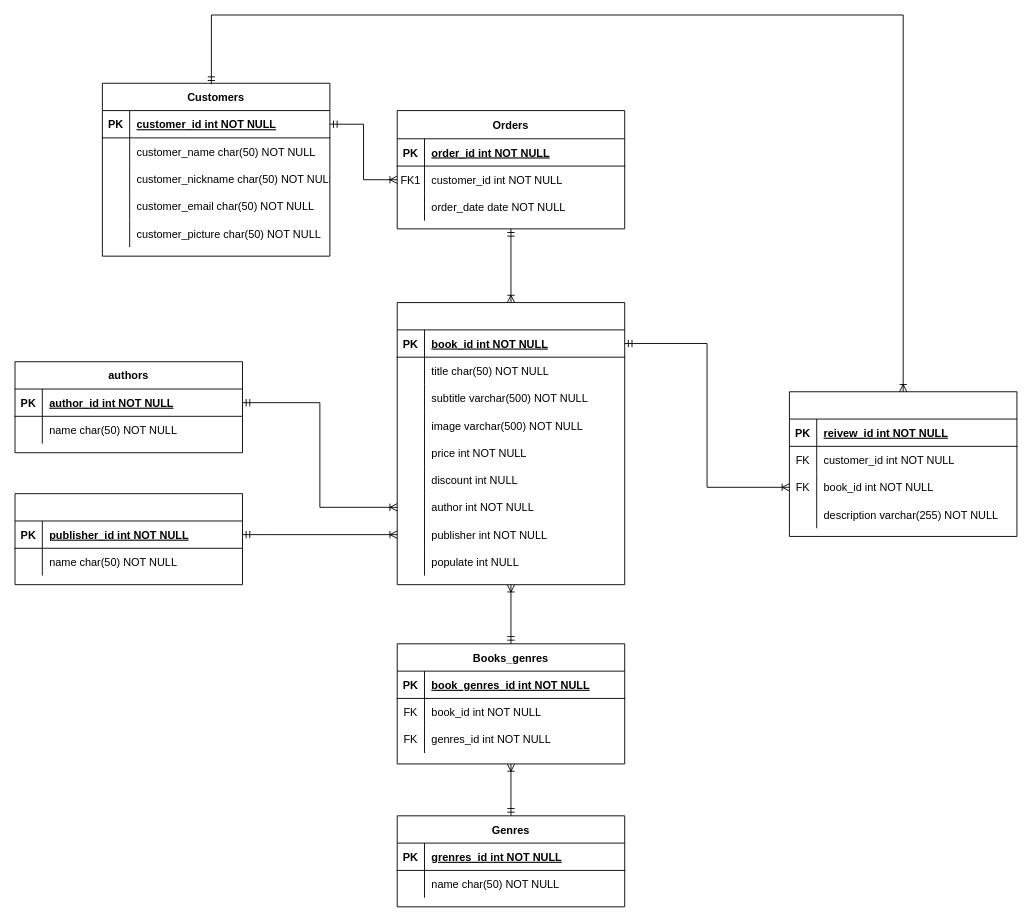
This 1032x922 diagram has some shape labels left out. The shapes that lost their labels are listed below. From the top down, each one's box as (x1, y1, x2, y2) in pixels, then its label:
(396, 302, 625, 585): Books
(789, 391, 1017, 536): Reviews
(14, 493, 243, 585): publishers
